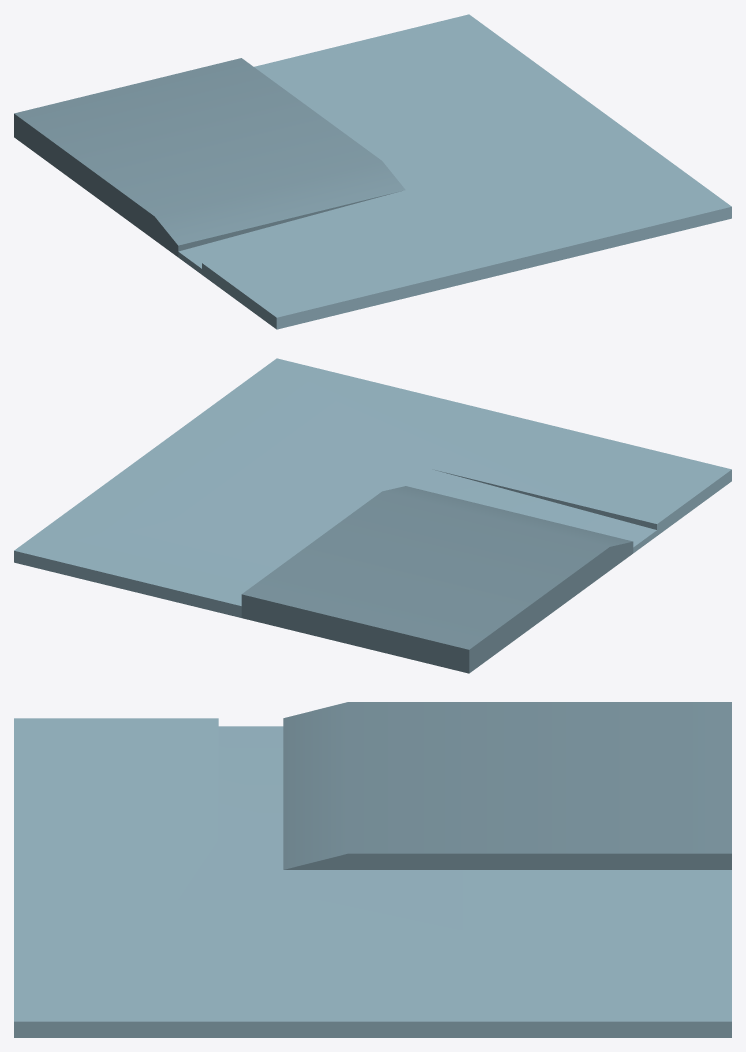
Rendered from roadSlope.dae.
3 renders of one model, top to bottom at view 1: azimuth 30°, elevation 25°; view 2: azimuth 150°, elevation 25°; view 3: azimuth 270°, elevation 25°, orthographic. The views are drawn at different scales.
Visible parts, largest first — view 1: roadSlope; view 2: roadSlope; view 3: roadSlope.
Boxes of the visible parts, x1,y1,x2,y2 form: roadSlope: (14,14,731,329); roadSlope: (14,358,731,673); roadSlope: (14,702,731,1037).
Size of the model in its own units: 1 by 0.05 by 1.
